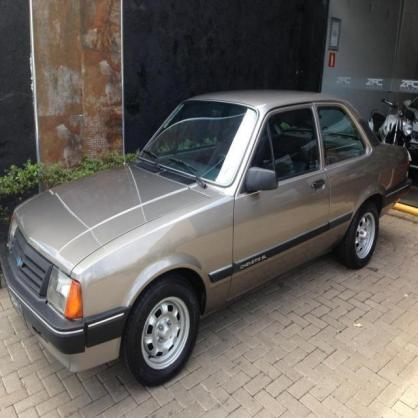car: (6, 85, 414, 391)
